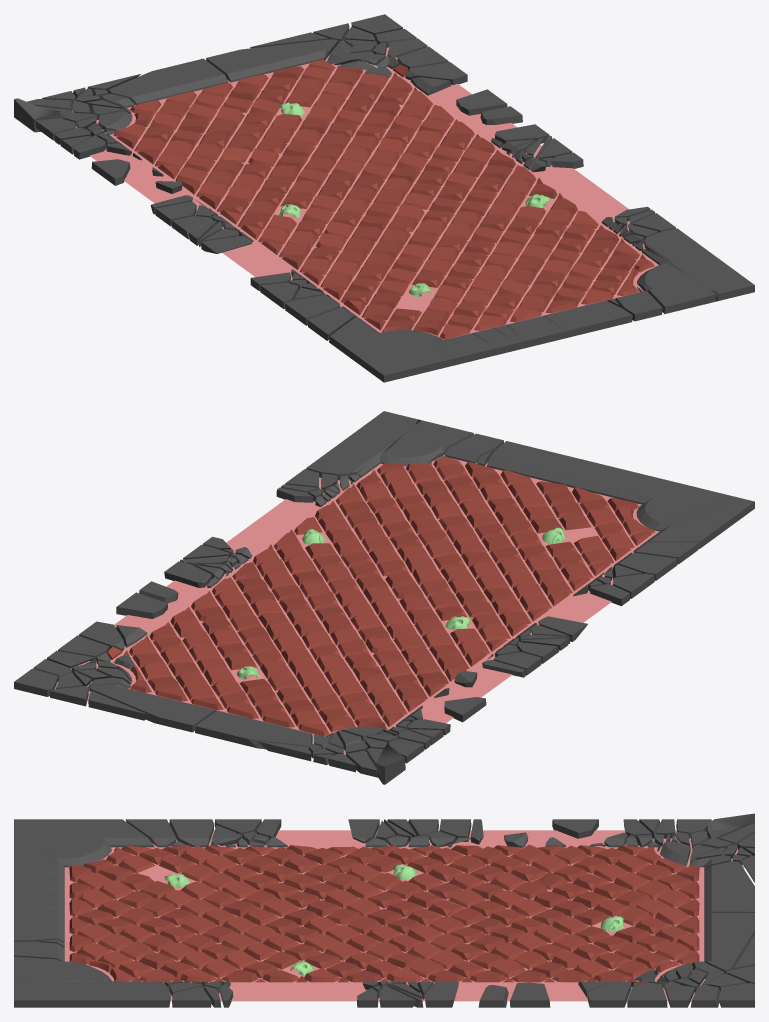
File: floor_1.FBX
3 renders of one model, top to bottom at view 1: azimuth 30°, elevation 25°; view 2: azimuth 150°, elevation 25°; view 3: azimuth 270°, elevation 25°, orthographic.
Parts seen in each view (by area): view 1: Floor_Object004; view 2: Floor_Object004; view 3: Floor_Object004.
Part boxes in pixels (x1=…): Floor_Object004: x1=14, y1=14, x2=754, y2=382; Floor_Object004: x1=14, y1=411, x2=754, y2=784; Floor_Object004: x1=14, y1=813, x2=754, y2=1007.
Bounding box in the file's own units: 954 × 44.75 × 1648.
